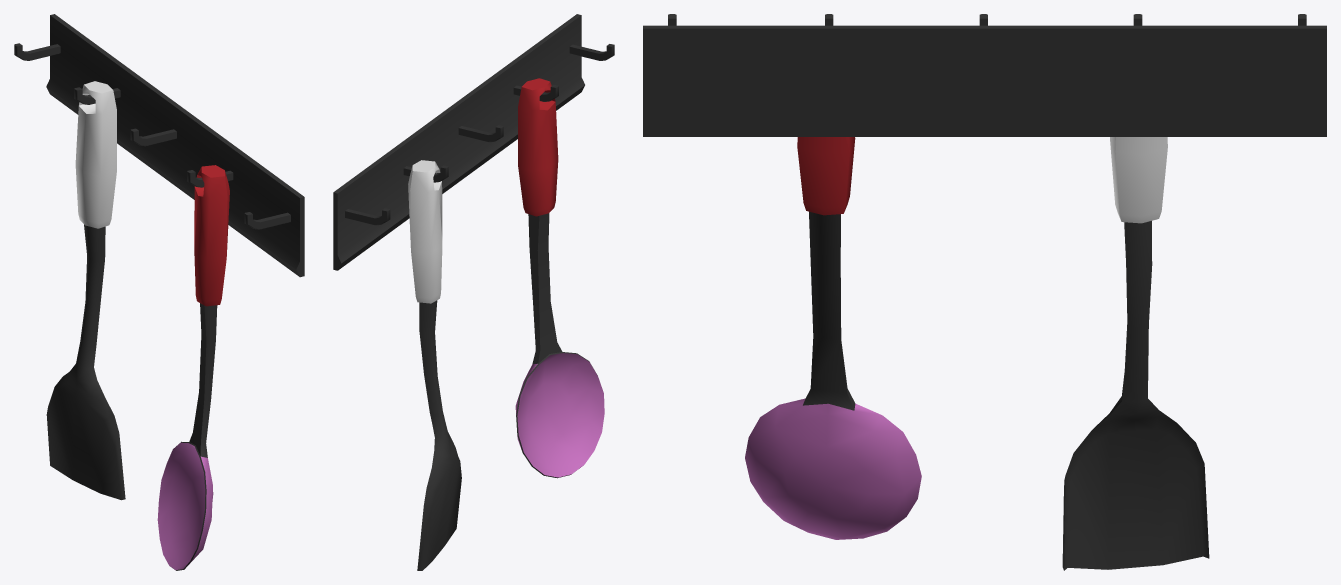
File: SYWJ103.FBX
3 renders of one model, left to right at view 1: azimuth 30°, elevation 25°; view 2: azimuth 150°, elevation 25°; view 3: azimuth 270°, elevation 25°, orthographic. The views are drawn at different scales.
Parts seen in each view (by area): view 1: SYWJ103; view 2: SYWJ103; view 3: SYWJ103.
Part boxes in pixels (x1,y1,x2,y2): SYWJ103: [14, 14, 304, 570]; SYWJ103: [333, 14, 614, 570]; SYWJ103: [643, 14, 1326, 570].
Bounding box in the file's own units: 188 × 1059 × 1163.
